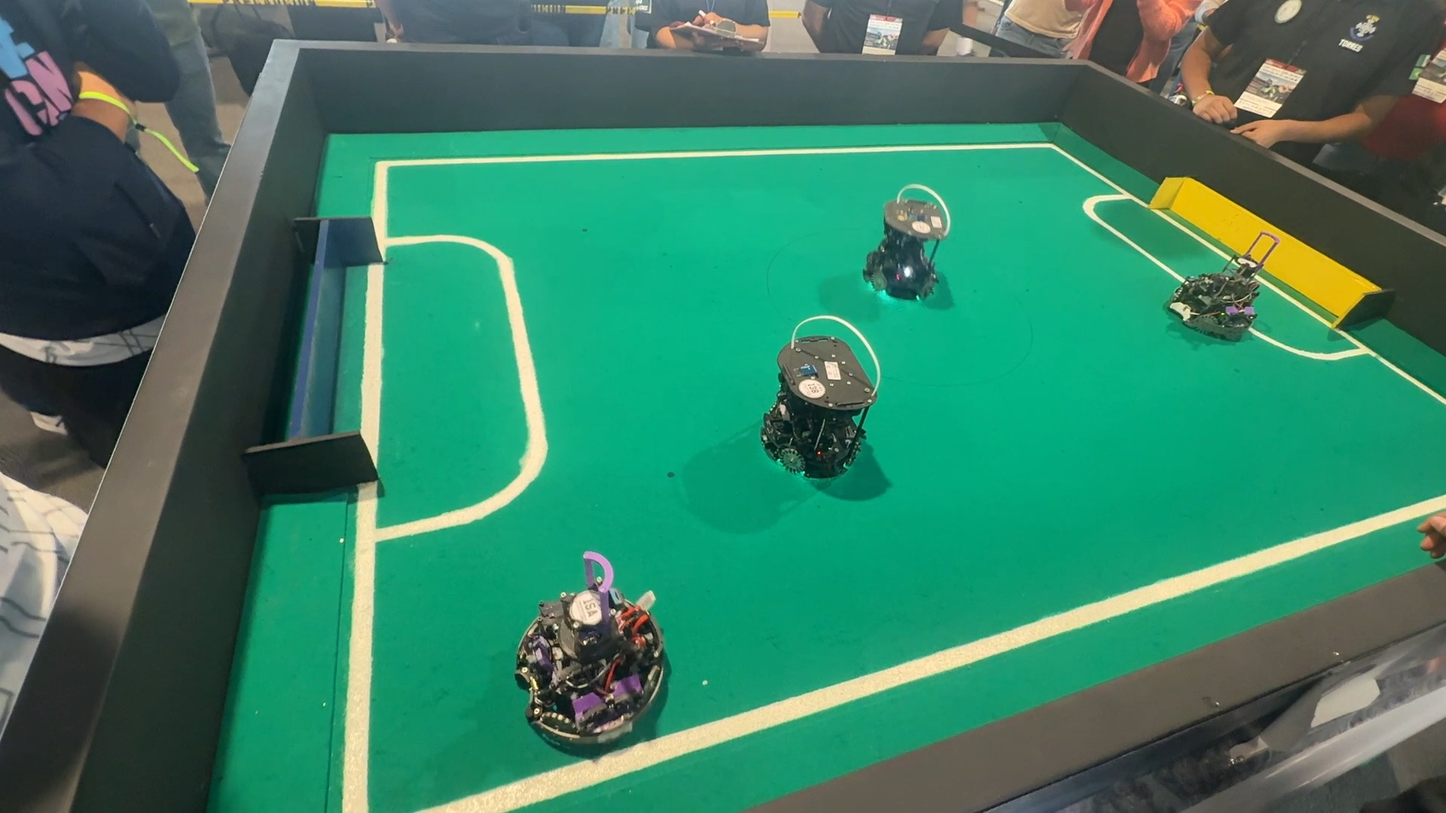Robot: (512, 543, 673, 770), (744, 308, 886, 508), (1159, 226, 1297, 351), (845, 186, 962, 323)
